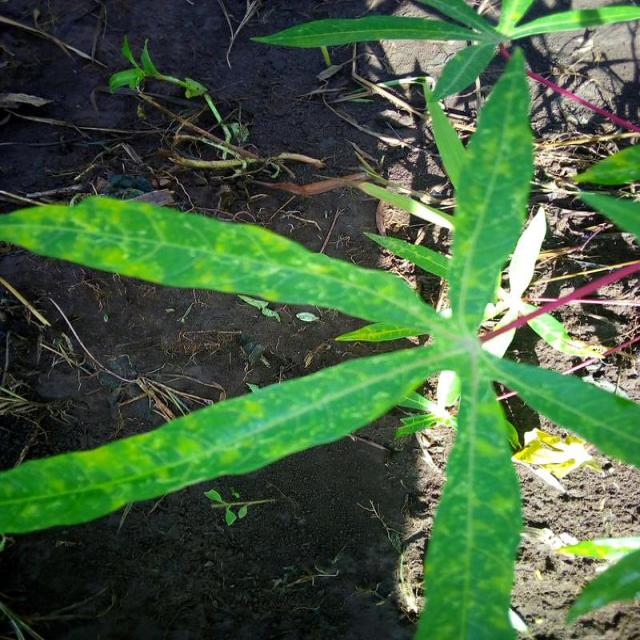cassava leaf: (0, 37, 638, 636), (0, 192, 442, 340)
